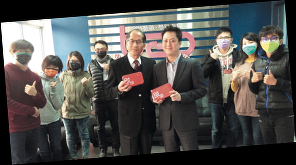with_mask: (259, 34, 280, 54), (13, 47, 32, 67), (241, 39, 258, 57), (217, 34, 231, 50), (67, 58, 82, 72), (43, 64, 57, 78), (95, 46, 107, 60)
without_mask: (160, 37, 180, 56), (127, 36, 144, 54)
